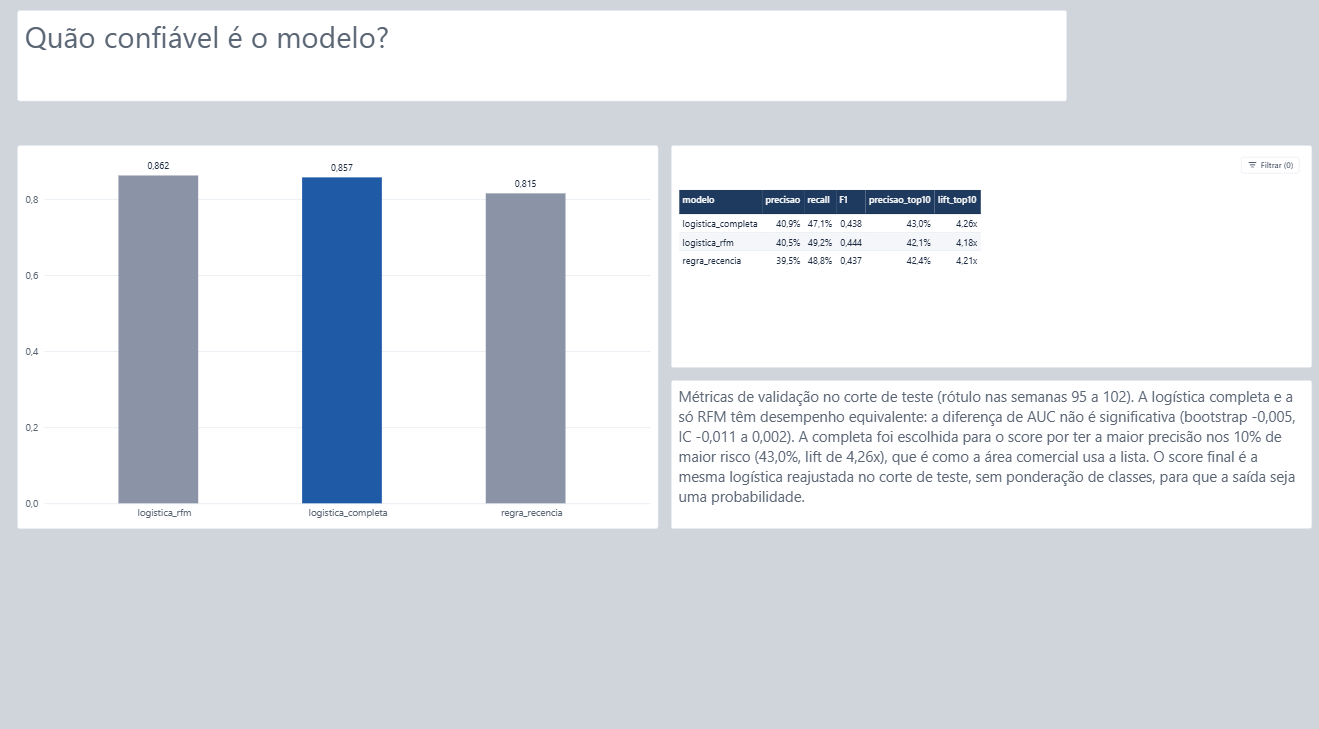

The page's visual inventory and layout, read from the dashboard file:
{"tool":"powerbi","page":{"name":"Página 4","canvas":[1920,1080],"ordinal":3},"visuals":[{"type":"textbox","box":[30.8,23.5,1521.2,132.2],"z":0},{"type":"columnChart","fields":{"Category":["resultado_modelos.modelo"],"Y":["Sum(resultado_modelos.AUC_teste)"]},"box":[30.8,218.2,929,555.9],"z":1000},{"type":"tableEx","title":"AUC no teste por modelo","fields":{"Values":["resultado_modelos.modelo","resultado_modelos.precisao","resultado_modelos.recall","resultado_modelos.F1","resultado_modelos.precisao_top10","resultado_modelos.lift_top10"]},"box":[977.9,218.2,929,322],"z":2000},{"type":"textbox","box":[977.9,558.7,929,215.5],"z":3000}]}

Visuals, with their boxes in screenshot pixels (x1, y1, x2, y2), scaled from the page's 1920x1080 canvas onto the 1319x729 screenshot:
textbox: select_region(21, 16, 1066, 105)
columnChart - resultado_modelos.modelo x Sum(resultado_modelos.AUC_teste): select_region(21, 147, 659, 523)
"AUC no teste por modelo" tableEx: select_region(672, 147, 1310, 365)
textbox: select_region(672, 377, 1310, 523)
